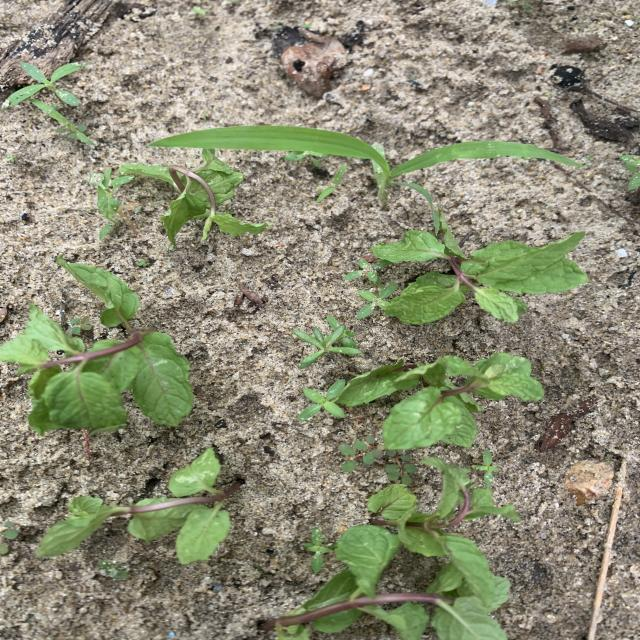crop: (0, 256, 192, 433), (270, 525, 507, 640), (36, 450, 239, 562), (368, 458, 519, 605), (371, 229, 586, 323), (339, 354, 542, 449), (120, 150, 267, 246)
weed: (150, 126, 579, 231), (5, 63, 83, 107), (295, 317, 359, 367), (92, 168, 135, 238), (31, 98, 94, 145), (298, 380, 345, 419), (340, 437, 383, 471), (357, 283, 395, 319), (304, 528, 331, 571), (316, 164, 346, 202), (384, 449, 417, 483), (345, 259, 387, 282), (472, 450, 498, 487), (620, 154, 639, 190), (1, 522, 20, 554), (98, 560, 129, 579), (68, 317, 91, 334), (508, 1, 531, 12), (191, 6, 210, 17)
